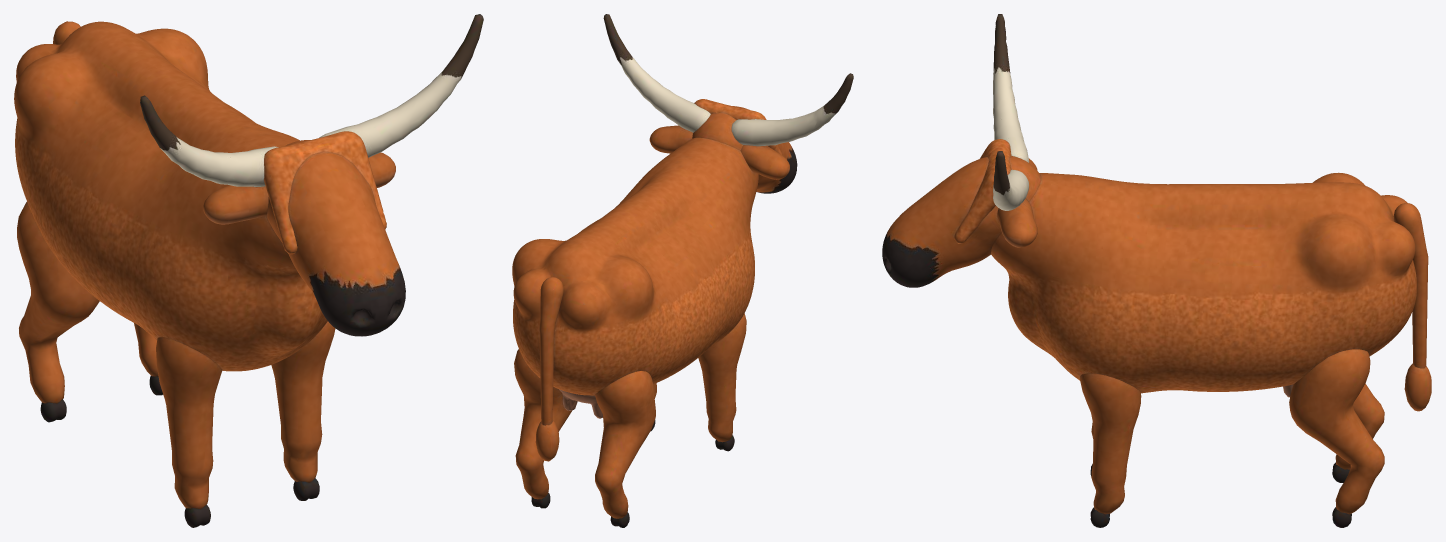
The model's file is animal_highland_cow.glb.
3 renders of one model, left to right at view 1: azimuth 30°, elevation 25°; view 2: azimuth 150°, elevation 25°; view 3: azimuth 270°, elevation 25°, orthographic. The views are drawn at different scales.
Parts seen in each view (by area): view 1: animal_highland_cow, head, leg2, leg0, leg1, leg3; view 2: animal_highland_cow, head, leg2, leg0, leg3, tail; view 3: animal_highland_cow, head, leg3, leg1, tail, leg2.
Part boxes in pixels (bbox=[...]): animal_highland_cow: bbox=[14, 21, 327, 371]; head: bbox=[140, 14, 483, 336]; leg2: bbox=[17, 202, 99, 422]; leg0: bbox=[156, 337, 222, 527]; leg1: bbox=[271, 321, 335, 500]; leg3: bbox=[134, 323, 163, 395]; animal_highland_cow: bbox=[512, 137, 758, 418]; head: bbox=[603, 14, 853, 193]; leg2: bbox=[595, 371, 655, 527]; leg0: bbox=[698, 313, 746, 451]; leg3: bbox=[514, 349, 572, 508]; tail: bbox=[535, 277, 563, 461]; animal_highland_cow: bbox=[991, 172, 1416, 397]; head: bbox=[882, 14, 1041, 287]; leg3: bbox=[1289, 349, 1384, 527]; leg1: bbox=[1080, 373, 1141, 527]; tail: bbox=[1393, 202, 1431, 411]; leg2: bbox=[1332, 383, 1384, 482].
Size of the model in its own units: 0.4407 by 0.6163 by 0.7313.
1 material, 1 textured.
